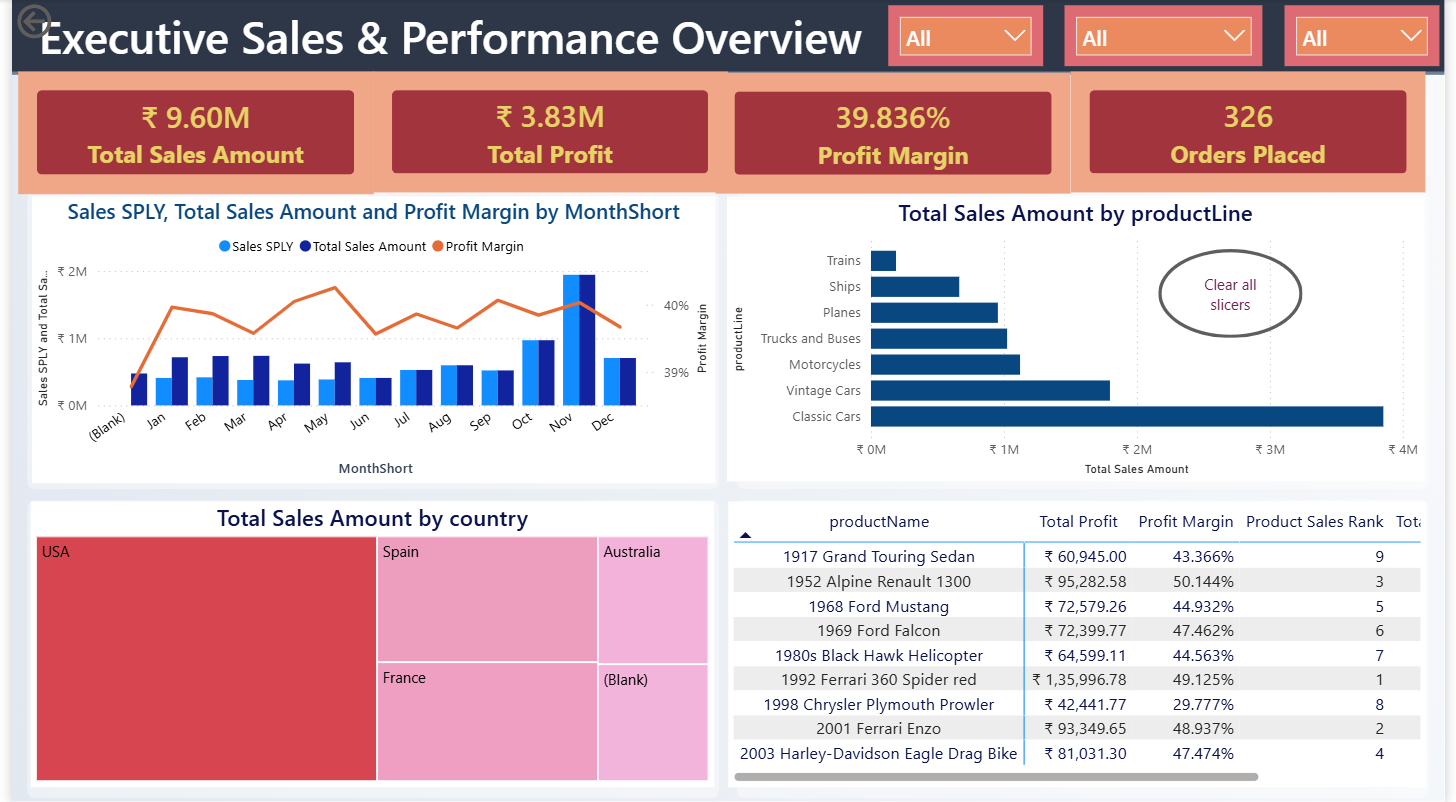

This screenshot's page, from the dashboard's own definition file:
{"tool":"powerbi","page":{"name":"Page 4","canvas":[1280,720],"ordinal":0},"visuals":[{"type":"textbox","title":"Executive Sales & Performance Overview","box":[19.3,5.3,877.3,61.3],"z":0},{"type":"slicer","fields":{"Values":["DimDate.Year"]},"box":[782.7,5.3,138.3,54.3],"z":1000},{"type":"slicer","fields":{"Values":["products.productLine"]},"box":[940.3,5.3,176.9,54.3],"z":2000},{"type":"slicer","fields":{"Values":["customers.country"]},"box":[1136.4,5.3,138.3,54.3],"z":3000},{"type":"cardVisual","fields":{"Data":["_Measures.Total Sales"]},"box":[5.8,65.1,317.4,109.3],"z":4000},{"type":"cardVisual","fields":{"Data":["_Measures.Total Profit"]},"box":[322.6,64.8,316.8,108],"z":5000},{"type":"cardVisual","fields":{"Data":["_Measures.Profit Margin"]},"box":[629,66,317,108],"z":6000},{"type":"cardVisual","fields":{"Data":["_Measures.Orders Placed"]},"box":[946,65,317,108],"z":7000},{"type":"lineClusteredColumnComboChart","fields":{"Category":["DimDate.MonthShort"],"Y":["_Measures.Sales SPLY","_Measures.Total Sales Amount"],"Y2":["_Measures.Profit Margin"]},"box":[17.4,176.7,610.5,255.8],"z":8000},{"type":"clusteredBarChart","fields":{"Category":["products.productLine"],"Y":["_Measures.Total Sales Amount"]},"box":[638.9,176.7,622.9,254.3],"z":9000},{"type":"treemap","fields":{"Group":["customers.country"],"Values":["_Measures.Total Sales Amount"]},"box":[17.3,449.3,610.6,254.9],"z":10000},{"type":"pivotTable","fields":{"Rows":["products.productName"],"Values":["_Measures.Total Profit","_Measures.Profit Margin","_Measures.Product Sales Rank","_Measures.Total Sales Amount"]},"box":[640,448.5,623.2,255.3],"z":11000},{"type":"actionButton","box":[0,0,100,40],"z":12000},{"type":"actionButton","box":[0,0,100,40],"z":13000},{"type":"actionButton","box":[1023.7,223.7,129,79.6],"z":14000}]}

Visuals, with their boxes in screenshot pixels (x1, y1, x2, y2), scaled from the page's 1280x720 canvas onto the 1456x802 screenshot:
"Executive Sales & Performance Overview" textbox: l=22, t=6, r=1020, b=74
slicer - DimDate.Year: l=890, t=6, r=1048, b=66
slicer - products.productLine: l=1070, t=6, r=1271, b=66
slicer - customers.country: l=1293, t=6, r=1450, b=66
cardVisual - _Measures.Total Sales: l=7, t=73, r=368, b=194
cardVisual - _Measures.Total Profit: l=367, t=72, r=727, b=192
cardVisual - _Measures.Profit Margin: l=715, t=74, r=1076, b=194
cardVisual - _Measures.Orders Placed: l=1076, t=72, r=1437, b=193
lineClusteredColumnComboChart - DimDate.MonthShort x _Measures.Sales SPLY: l=20, t=197, r=714, b=482
clusteredBarChart - products.productLine x _Measures.Total Sales Amount: l=727, t=197, r=1435, b=480
treemap - customers.country x _Measures.Total Sales Amount: l=20, t=500, r=714, b=784
pivotTable - products.productName x _Measures.Total Profit: l=728, t=500, r=1437, b=784
actionButton: l=0, t=0, r=114, b=45
actionButton: l=0, t=0, r=114, b=45
actionButton: l=1164, t=249, r=1311, b=338
